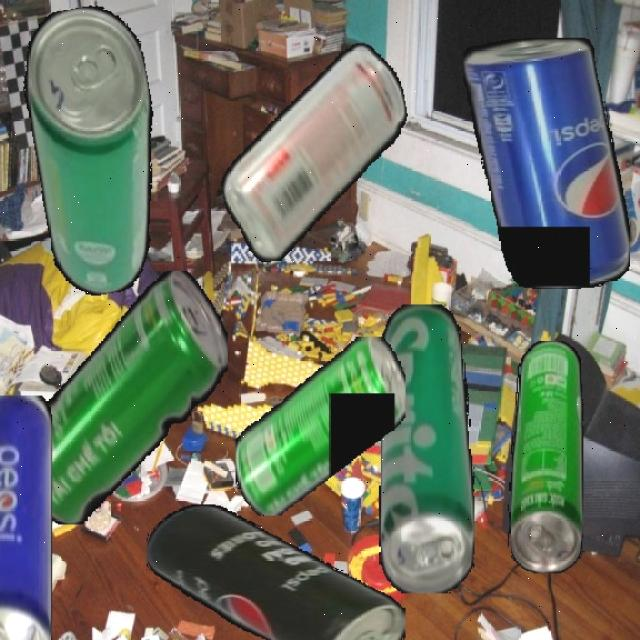debris: (18, 269, 228, 524), (202, 38, 428, 266), (12, 0, 182, 301), (462, 38, 630, 289), (147, 503, 406, 640), (234, 336, 406, 516), (378, 304, 474, 594), (507, 339, 583, 573), (0, 394, 52, 640)
